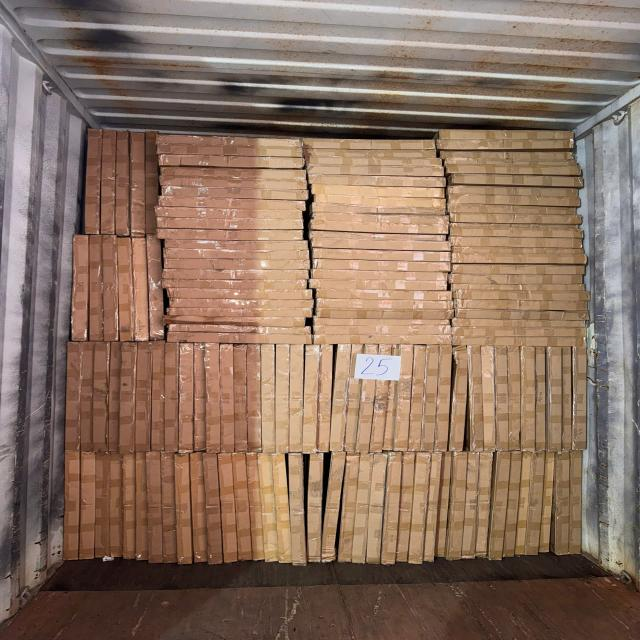Carton: (81, 129, 107, 237), (342, 341, 366, 452), (68, 233, 92, 343), (390, 341, 414, 450), (355, 344, 379, 452), (304, 135, 439, 154), (158, 195, 307, 212), (159, 153, 307, 170), (132, 340, 154, 454), (369, 344, 392, 453), (90, 340, 112, 451), (127, 132, 150, 238), (322, 453, 344, 563), (257, 453, 279, 563), (270, 453, 292, 563), (155, 142, 305, 158), (160, 185, 309, 201), (331, 345, 353, 453), (244, 453, 266, 561), (118, 341, 139, 454), (176, 340, 197, 453), (98, 130, 120, 237), (367, 453, 388, 565), (351, 452, 372, 564), (104, 340, 125, 452), (100, 233, 121, 344), (63, 340, 84, 451), (76, 451, 97, 560), (311, 246, 453, 262), (382, 452, 402, 565), (144, 451, 164, 564), (450, 345, 471, 452), (410, 451, 430, 563), (306, 162, 446, 178), (340, 451, 360, 563), (273, 340, 293, 452), (217, 453, 237, 565), (308, 192, 448, 208), (87, 232, 107, 344), (112, 131, 133, 237), (286, 453, 306, 564), (448, 450, 468, 561), (217, 341, 237, 452), (160, 175, 308, 190), (62, 451, 82, 561), (234, 453, 254, 563), (306, 453, 326, 563), (93, 451, 113, 560), (174, 454, 193, 568), (163, 340, 182, 452), (132, 239, 152, 345), (419, 345, 439, 451), (308, 173, 449, 188), (302, 342, 321, 453), (232, 341, 251, 452), (76, 340, 95, 451), (309, 219, 449, 234), (286, 344, 305, 454), (273, 454, 292, 564), (115, 238, 135, 342), (155, 205, 303, 219), (316, 344, 335, 453), (204, 454, 223, 563), (310, 184, 448, 199), (160, 166, 307, 180), (461, 452, 480, 560), (157, 134, 302, 148), (260, 341, 278, 453), (246, 341, 264, 453), (205, 340, 223, 452), (191, 454, 209, 566), (492, 452, 511, 558), (407, 345, 426, 451), (148, 343, 166, 454), (423, 451, 441, 562), (397, 452, 415, 563), (313, 258, 453, 272), (315, 288, 454, 302), (312, 238, 451, 252), (382, 344, 400, 452), (553, 452, 572, 554), (161, 453, 178, 567), (156, 217, 305, 230), (310, 202, 448, 216), (466, 344, 484, 451), (156, 228, 304, 241), (163, 257, 311, 270), (163, 247, 310, 260), (167, 287, 314, 300), (435, 344, 453, 450), (520, 346, 538, 451), (493, 345, 511, 449), (451, 173, 584, 187), (308, 278, 450, 291), (478, 452, 495, 560), (304, 154, 444, 167), (480, 344, 497, 450), (311, 269, 449, 282), (527, 451, 544, 556), (166, 332, 314, 344), (122, 452, 138, 562), (162, 278, 308, 290), (146, 238, 163, 341), (164, 238, 309, 250), (506, 450, 522, 558), (162, 316, 306, 328), (309, 230, 452, 242), (436, 138, 576, 150), (507, 345, 523, 450), (546, 346, 562, 451), (311, 212, 450, 224), (448, 202, 576, 215), (572, 346, 588, 450), (438, 453, 453, 563), (446, 194, 583, 206), (316, 298, 453, 310), (452, 299, 589, 311), (451, 264, 586, 276), (449, 227, 584, 239), (454, 308, 589, 320), (162, 269, 309, 280), (449, 213, 583, 225), (108, 454, 123, 560), (517, 451, 532, 557), (146, 128, 161, 234), (450, 236, 582, 248), (135, 451, 149, 561), (452, 290, 591, 301), (445, 164, 582, 175), (448, 274, 584, 285), (452, 327, 587, 338), (167, 308, 313, 318), (569, 450, 583, 554), (169, 298, 314, 308), (168, 324, 312, 334), (541, 452, 555, 553), (446, 185, 585, 195), (316, 308, 454, 318), (314, 325, 452, 335), (450, 253, 588, 263), (561, 346, 574, 452), (438, 129, 574, 139), (451, 336, 587, 346), (535, 346, 548, 450), (440, 150, 575, 160), (303, 148, 438, 158), (445, 157, 580, 167), (452, 318, 586, 328), (193, 342, 205, 453), (312, 335, 451, 344), (313, 316, 450, 325), (452, 246, 588, 254), (449, 222, 580, 229), (450, 284, 585, 290)
